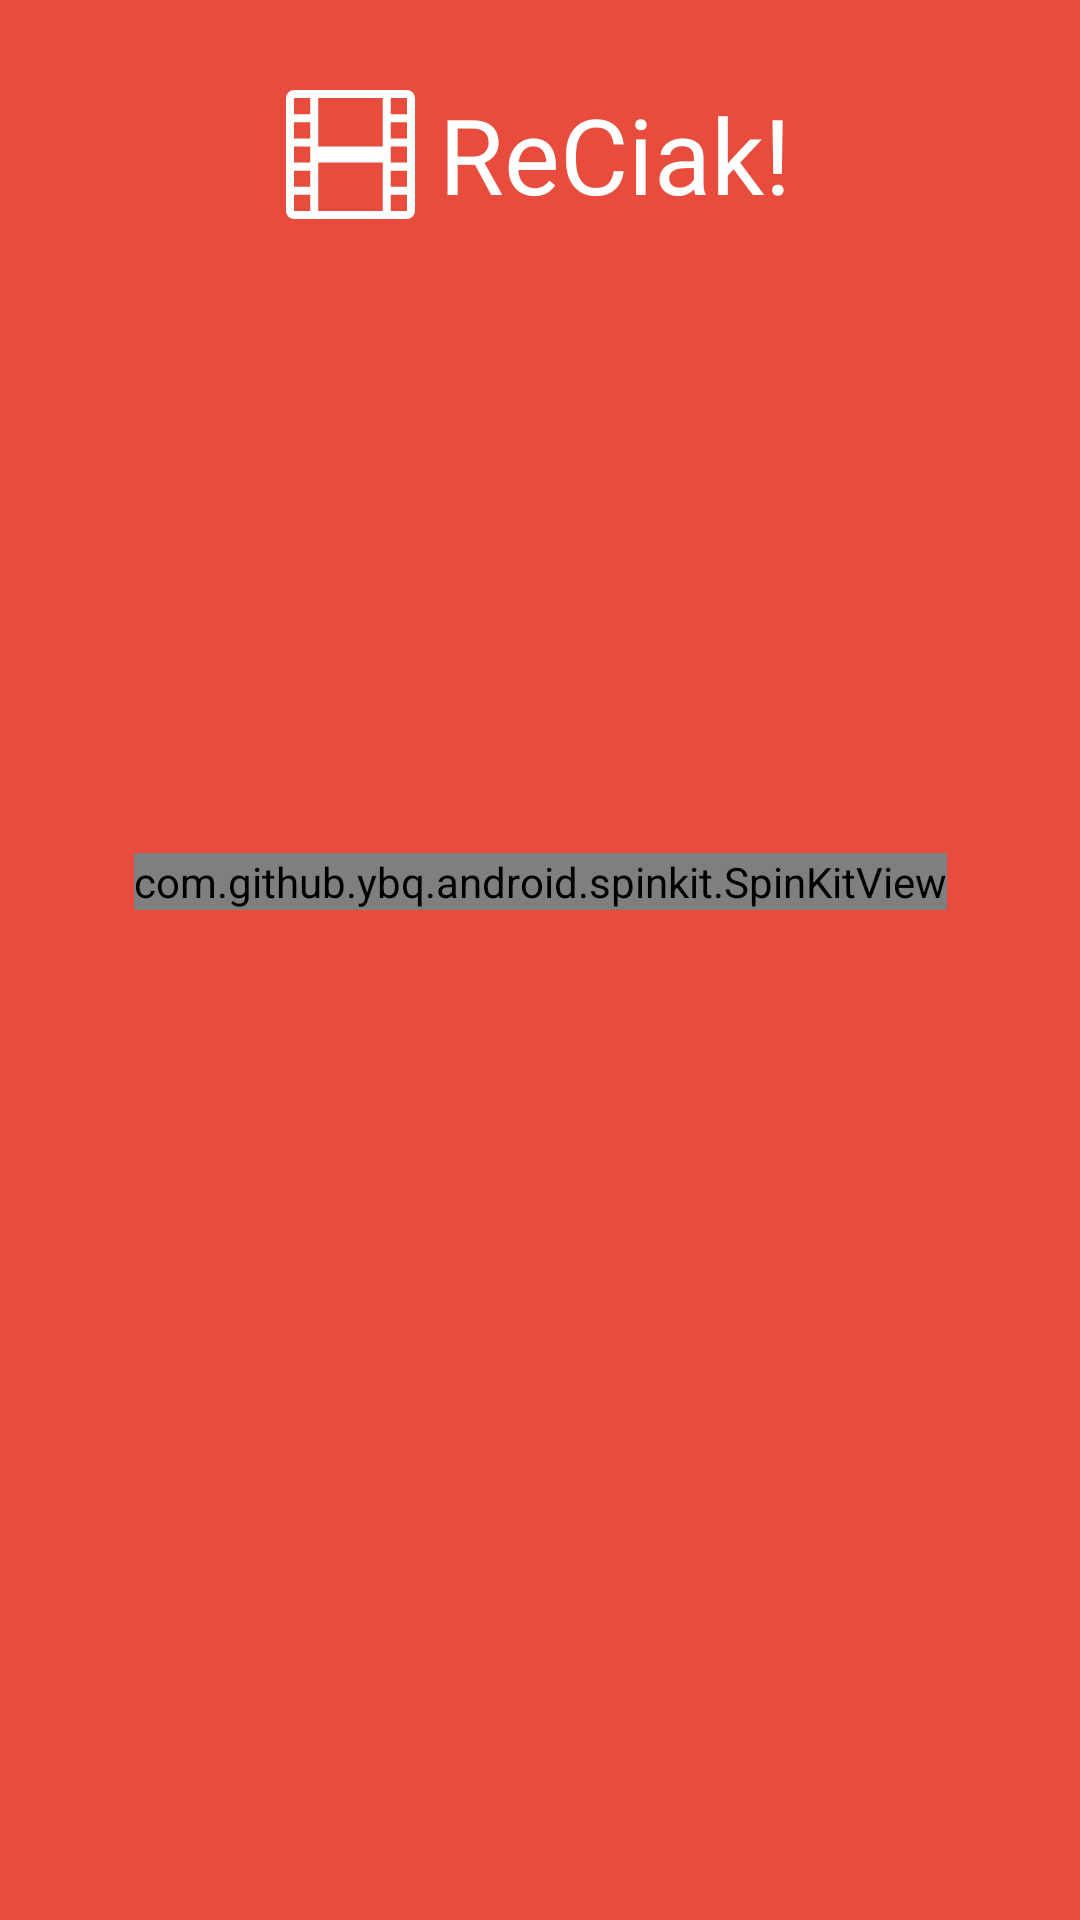

Point at icon controls on the screen. Image size 1080w x 1920h, points as point (x, y).
film: point (350, 154)
